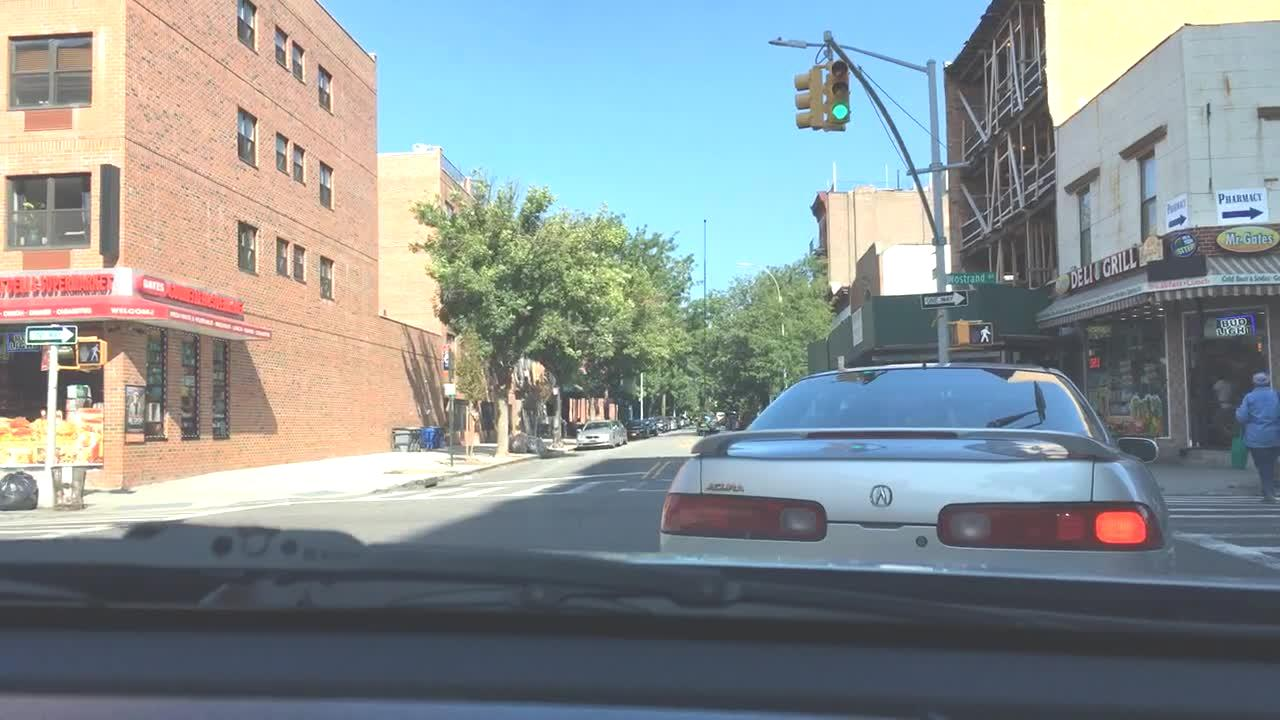acura: (870, 480, 900, 519)
